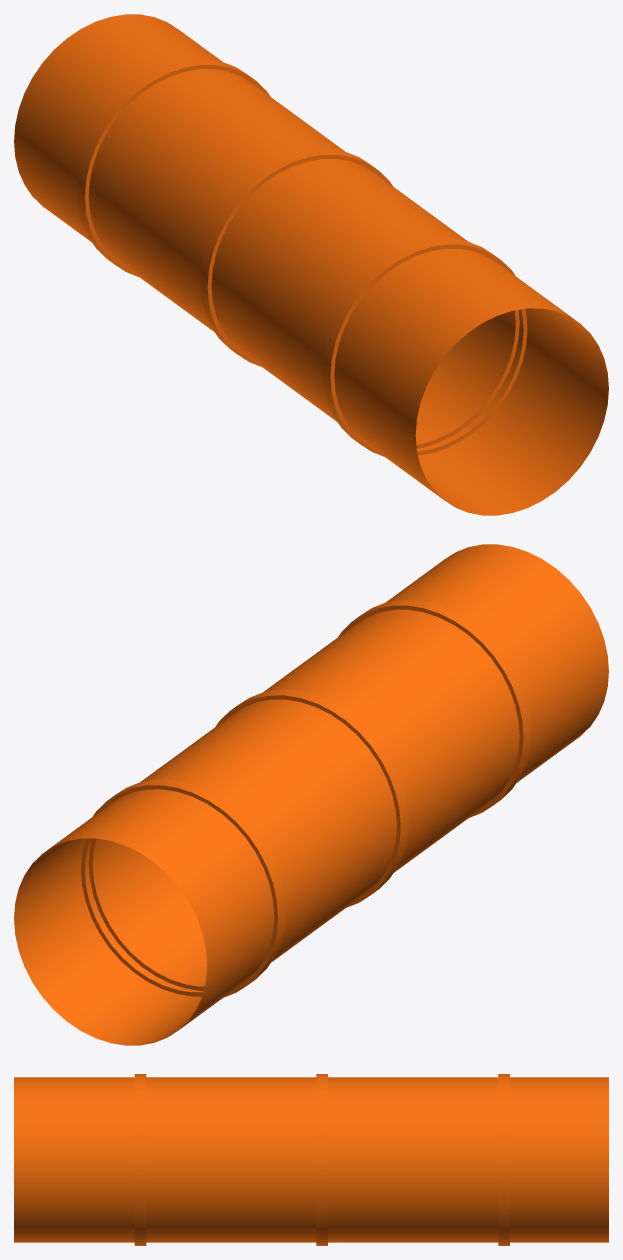
The model's file is arm_01_column.obj.
3 renders of one model, top to bottom at view 1: azimuth 30°, elevation 25°; view 2: azimuth 150°, elevation 25°; view 3: azimuth 270°, elevation 25°, orthographic. The views are drawn at different scales.
Parts seen in each view (by area): view 1: arm_01_column; view 2: arm_01_column; view 3: arm_01_column.
Boxes of the visible parts, box(x1,y1,x2,y2) form: arm_01_column: box(14, 14, 608, 515); arm_01_column: box(14, 544, 608, 1045); arm_01_column: box(14, 1074, 608, 1245).
Bounding box in the file's own units: 208 × 208 × 720.
